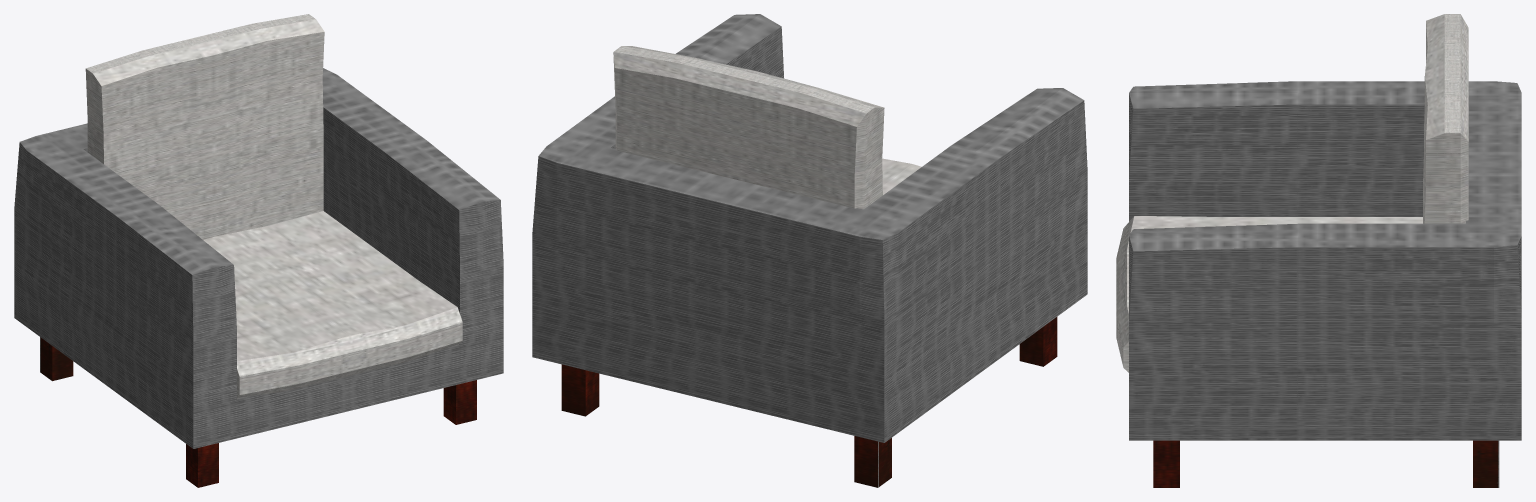
The model's file is armchair.gltf.
The picture shows the model from 3 angles, left to right: view 1: azimuth 30°, elevation 25°; view 2: azimuth 150°, elevation 25°; view 3: azimuth 270°, elevation 25°; orthographic projection. The views are drawn at different scales.
Visible parts, largest first — view 1: Cube; view 2: Cube; view 3: Cube.
Boxes of the visible parts, x1,y1,x2,y2 form: Cube: (14,14,503,487); Cube: (532,14,1087,487); Cube: (1116,14,1521,487).
Bounding box in the file's own units: 2 × 1.93 × 2.07.
1 material, 1 textured.
